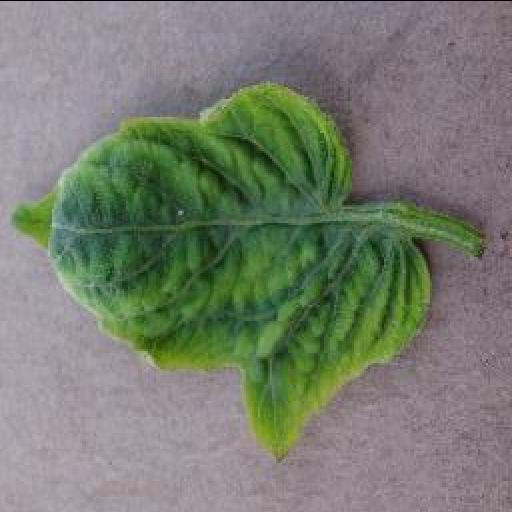disease_tomato: (8, 82, 430, 460)
